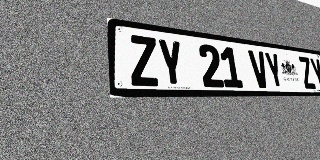1: (218, 46, 243, 88)
2: (198, 43, 224, 87)
V: (248, 50, 271, 88)
Y: (156, 38, 186, 87), (263, 52, 285, 88), (309, 58, 320, 89)
Z: (128, 34, 160, 86), (297, 56, 317, 89)
